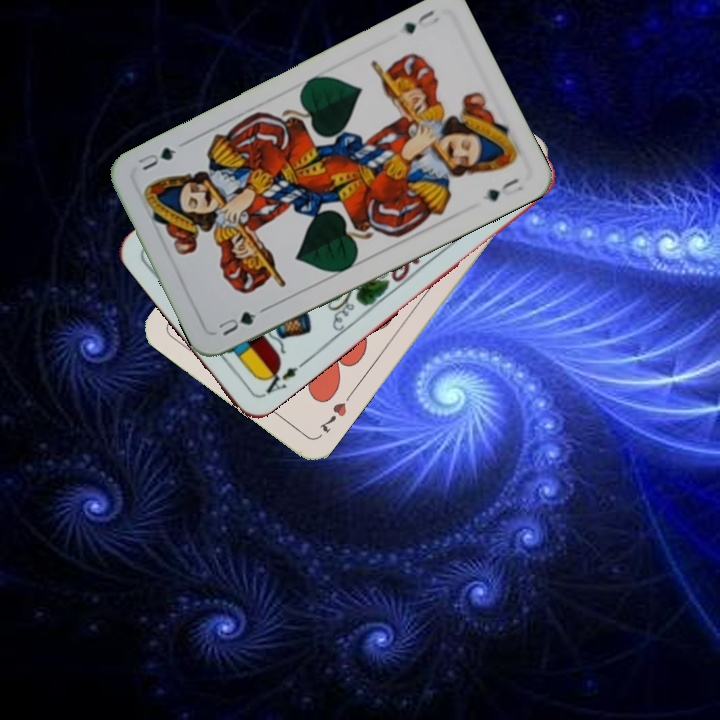EA: (257, 360, 301, 400)
GU: (214, 304, 268, 339), (398, 6, 437, 37)
H7: (315, 398, 349, 436)
